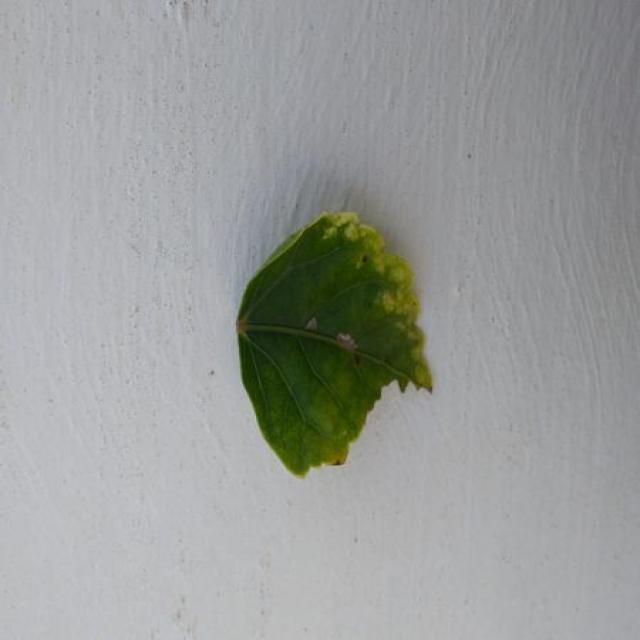leaf: (235, 209, 433, 477)
